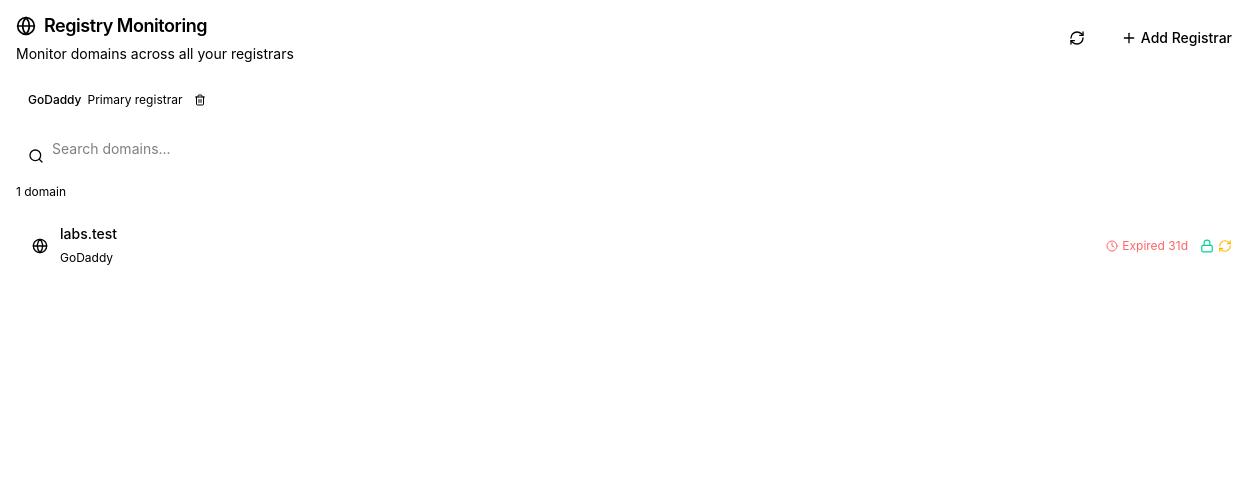
Test: expanding a row by hand still offers the renewal link
Step 1. Click the text "labs.test" → (89, 234), box x1=60 y1=225 x2=117 y2=242
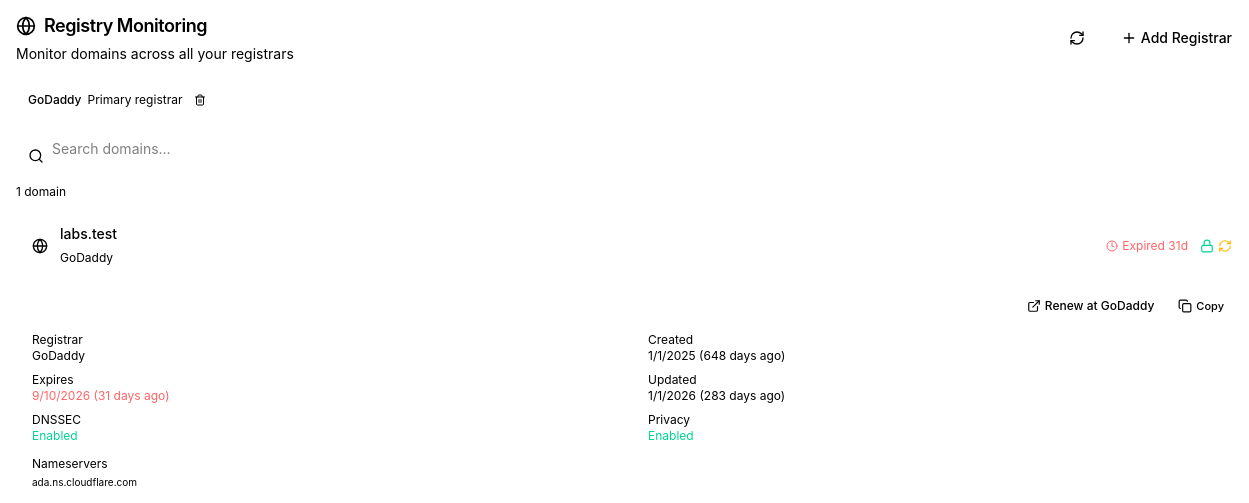
And collapses again, taking the link with it.
Step 2. Click the text "labs.test" → (89, 234), box x1=60 y1=225 x2=117 y2=242
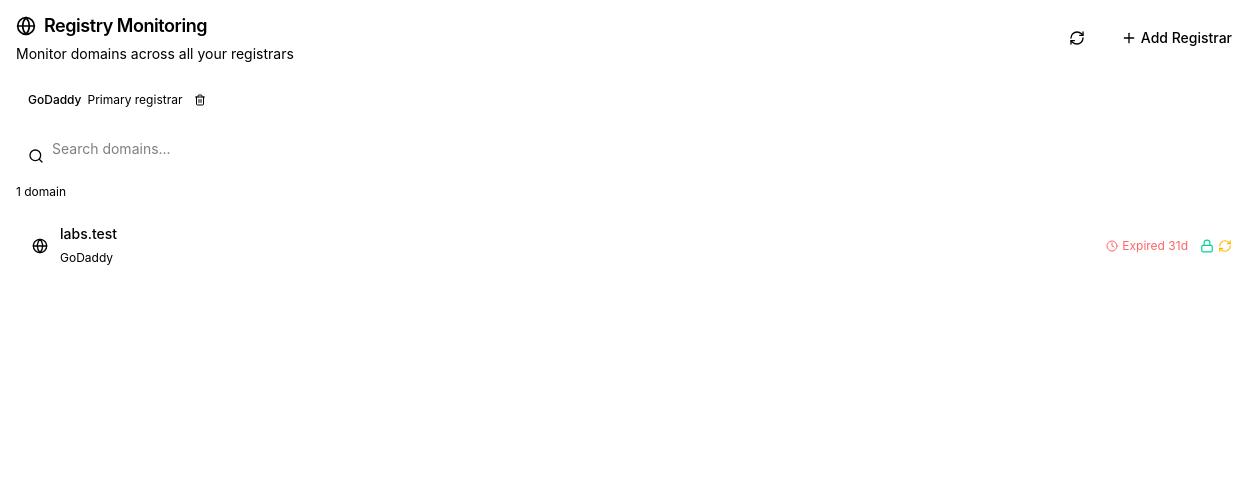
expect the button with test id "registrar-site-link" is gone: met
